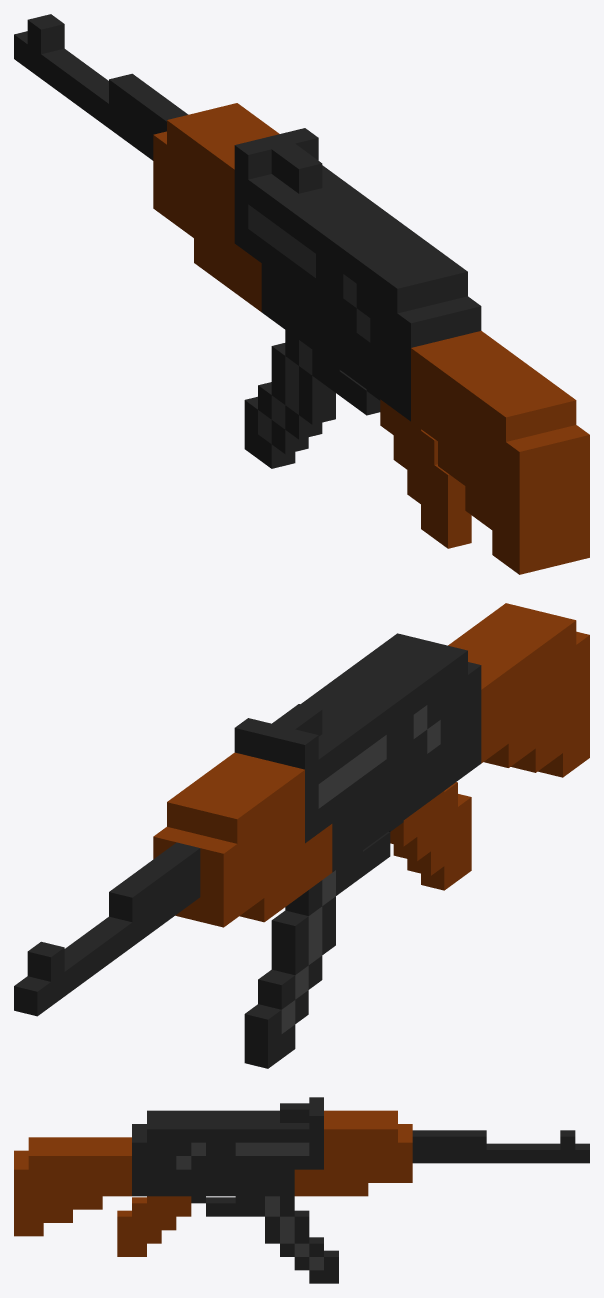
File: Third_gun.obj
The picture shows the model from 3 angles, top to bottom: view 1: azimuth 30°, elevation 25°; view 2: azimuth 150°, elevation 25°; view 3: azimuth 270°, elevation 25°; orthographic projection. The views are drawn at different scales.
Bounding box in the file's own units: 0.3 × 1.3 × 3.9.
Materials: 1 (1 with a texture image).
